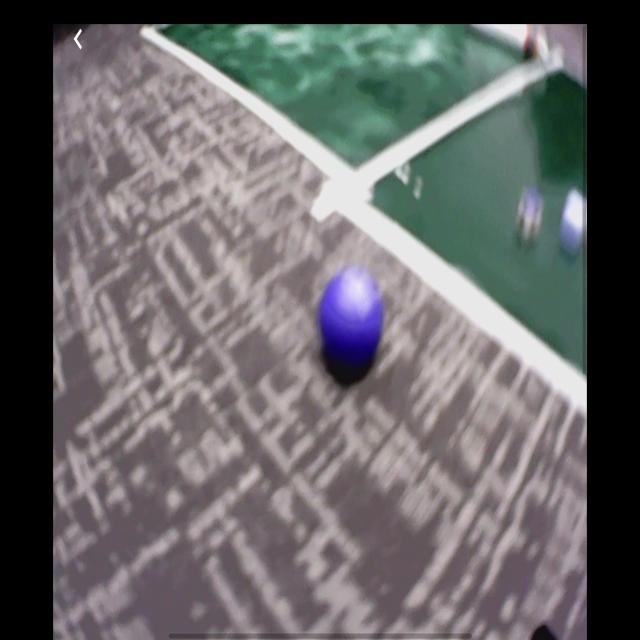ball: (320, 270, 383, 379)
